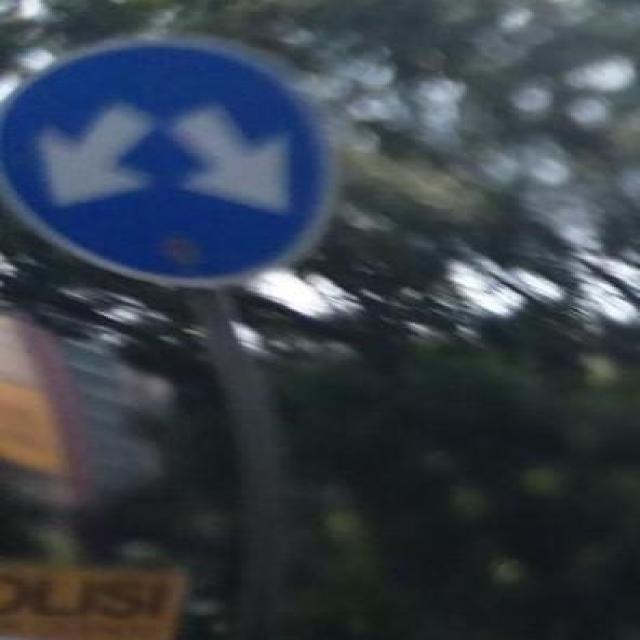traffic sign: (2, 36, 342, 286)
